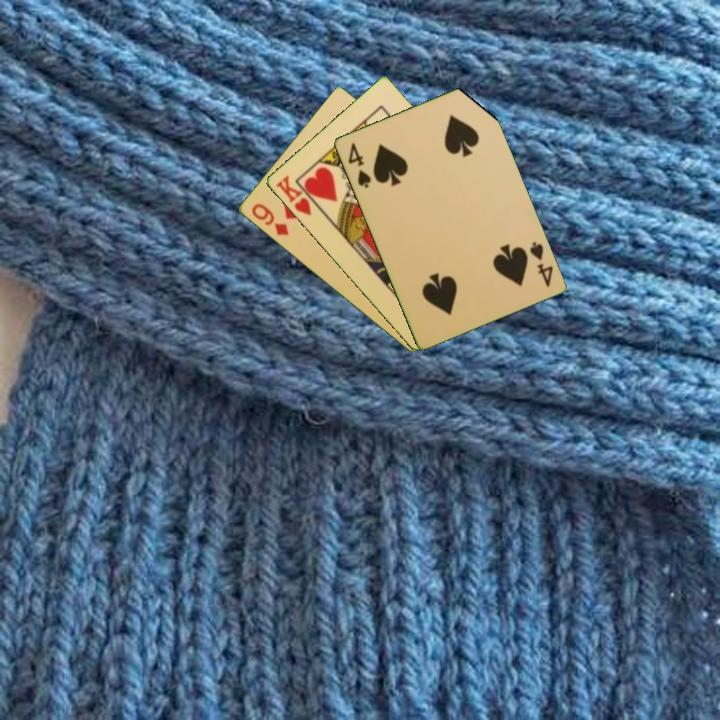4s: (525, 238, 556, 290), (344, 139, 374, 191)
9d: (247, 200, 292, 239)
Kh: (272, 172, 323, 219)
